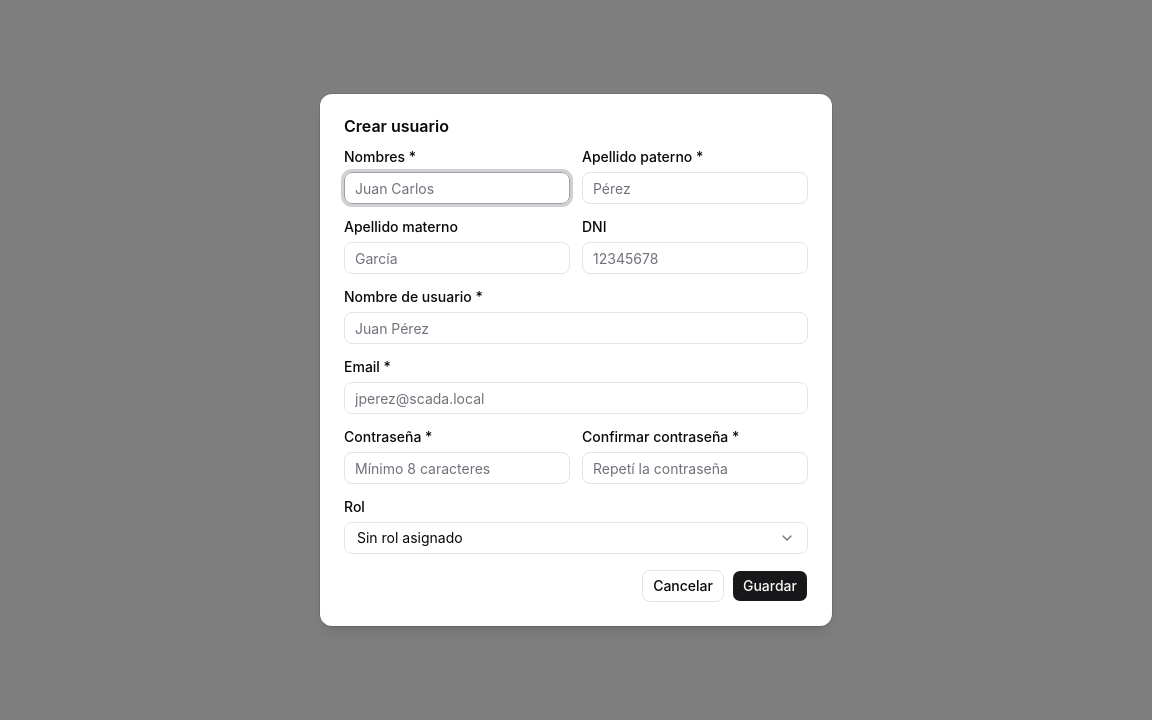
it: FormularioUsuario — modo crear › muestra error cuando el password tiene menos de 8 caracteres
Type "corto" into the password field with placeholder "Mínimo 8 caracteres" at (457, 468), box [344,452,570,484]
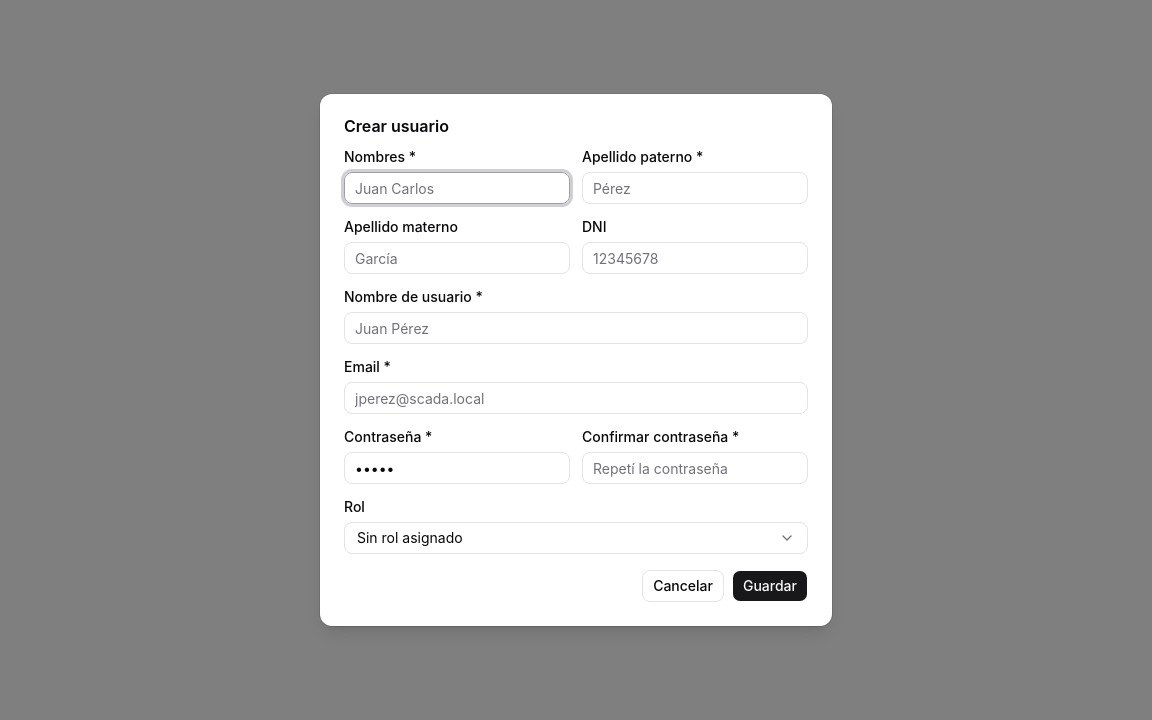
Click the button "Guardar" at (770, 586), box [732,570,808,602]
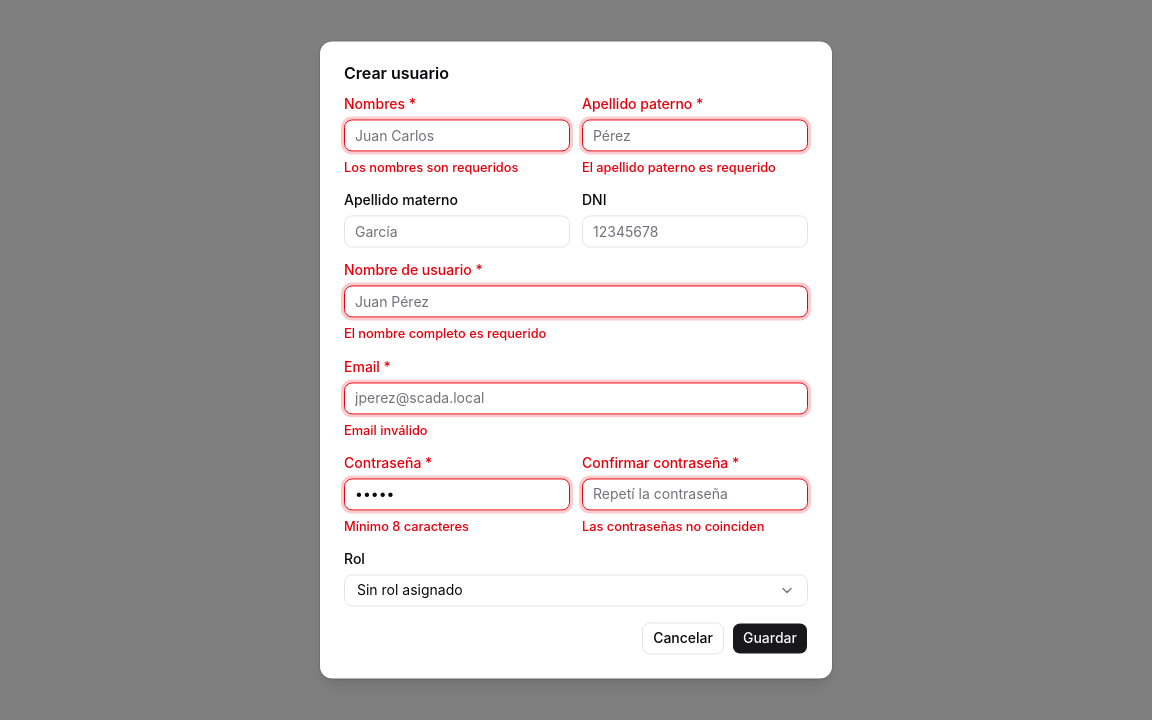
Check: the text "Mínimo 8 caracteres" is shown, box [344,519,469,534]
